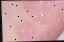plaque psoriasis: (1, 23, 64, 42), (23, 0, 64, 27), (14, 19, 32, 42)
